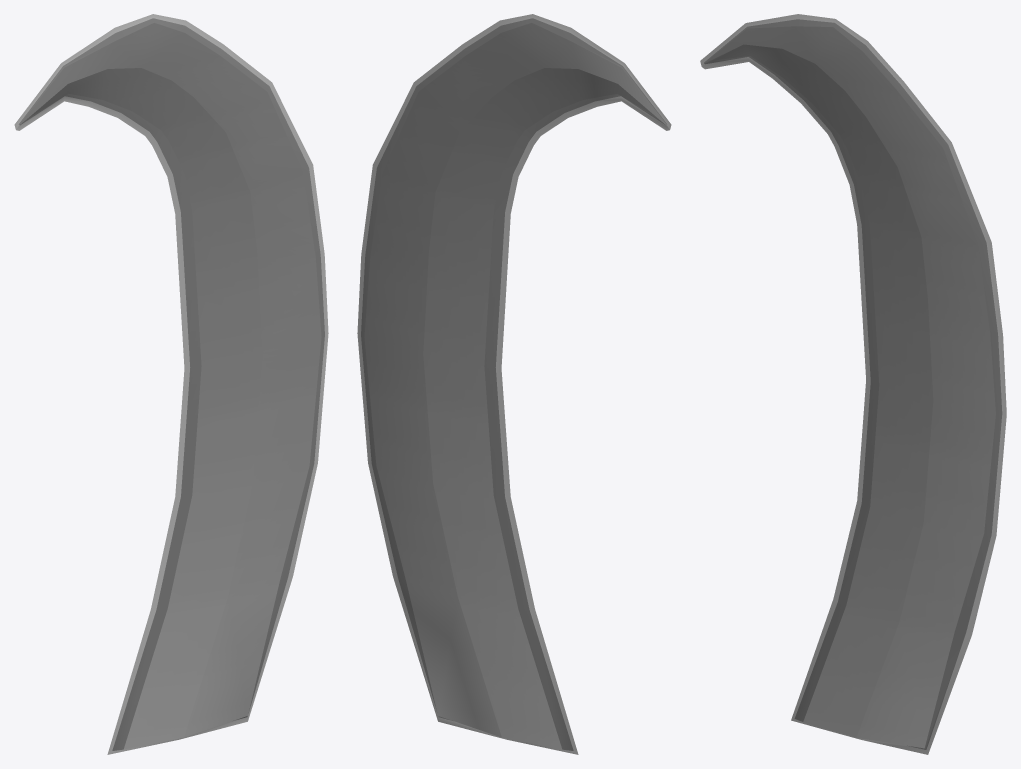
File: stone_blade (4).glb
3 renders of one model, left to right at view 1: azimuth 30°, elevation 25°; view 2: azimuth 150°, elevation 25°; view 3: azimuth 330°, elevation 25°, orthographic. The views are drawn at different scales.
Visible parts, largest first — view 1: stone_blade_unscratched.024; view 2: stone_blade_unscratched.024; view 3: stone_blade_unscratched.024.
Boxes of the visible parts, x1,y1,x2,y2 form: stone_blade_unscratched.024: [14, 14, 328, 754]; stone_blade_unscratched.024: [357, 14, 671, 754]; stone_blade_unscratched.024: [700, 14, 1006, 754].
Bounding box in the file's own units: 4.65 × 10.35 × 0.241.
Materials: 1 (1 with a texture image).
